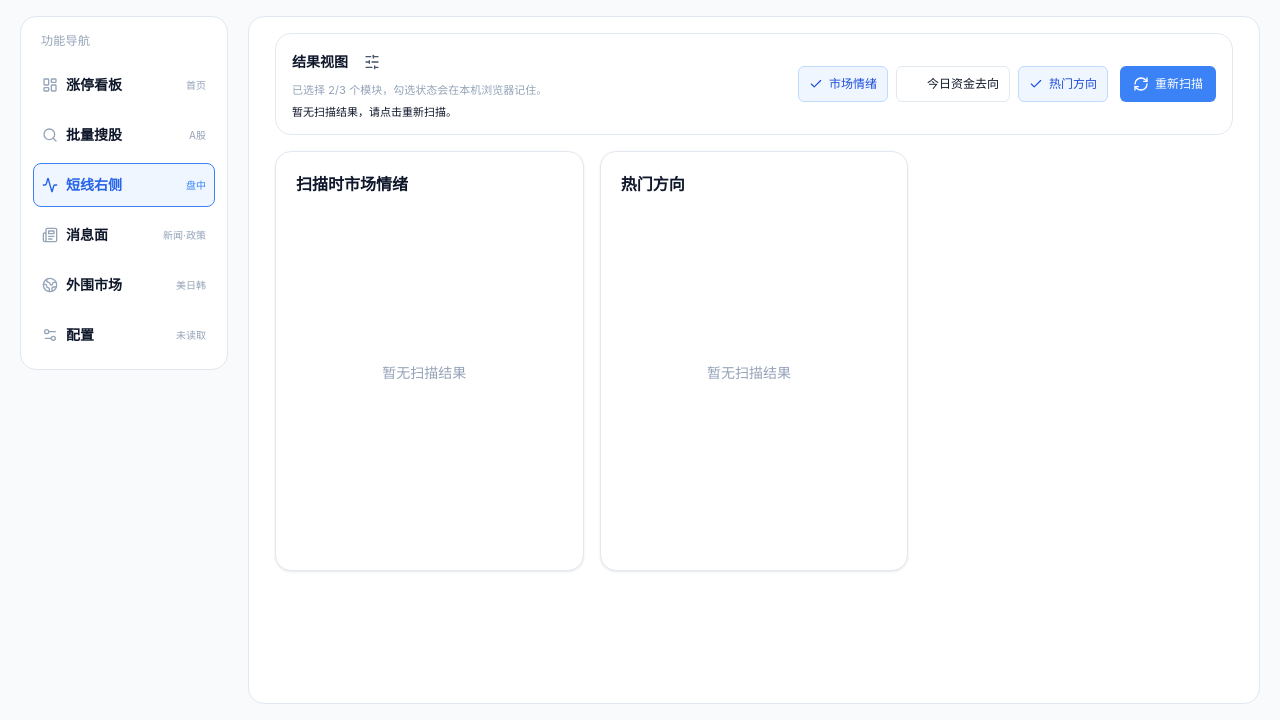
App home routes and navigation › opens the batch search page from its menu without loading the home board
Click the button with aria-label "批量搜股".
click(124, 135)  # box 33,113 -> 215,157
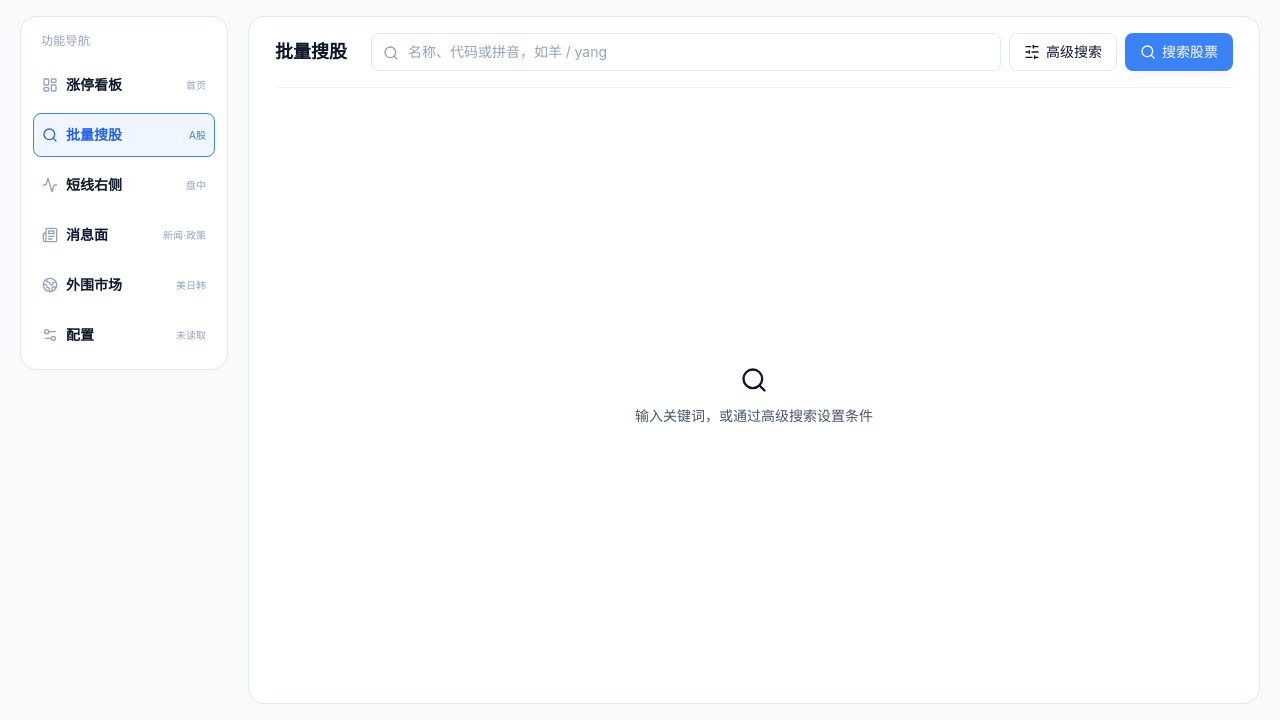
Now the heading "批量搜股" is shown, box 275,38 -> 347,66
